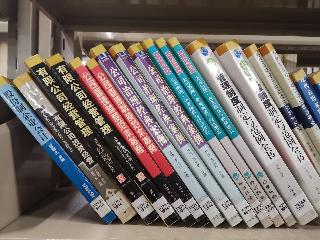book-spine: (140, 36, 274, 230), (110, 39, 245, 228), (167, 36, 298, 228), (187, 36, 319, 226), (154, 36, 284, 228), (128, 41, 260, 228), (91, 43, 225, 227), (22, 52, 161, 227), (45, 50, 180, 227), (69, 55, 197, 229), (86, 57, 211, 228), (12, 69, 138, 225), (219, 37, 320, 217), (0, 76, 117, 227), (245, 41, 320, 176), (257, 39, 320, 155), (289, 69, 320, 128)
